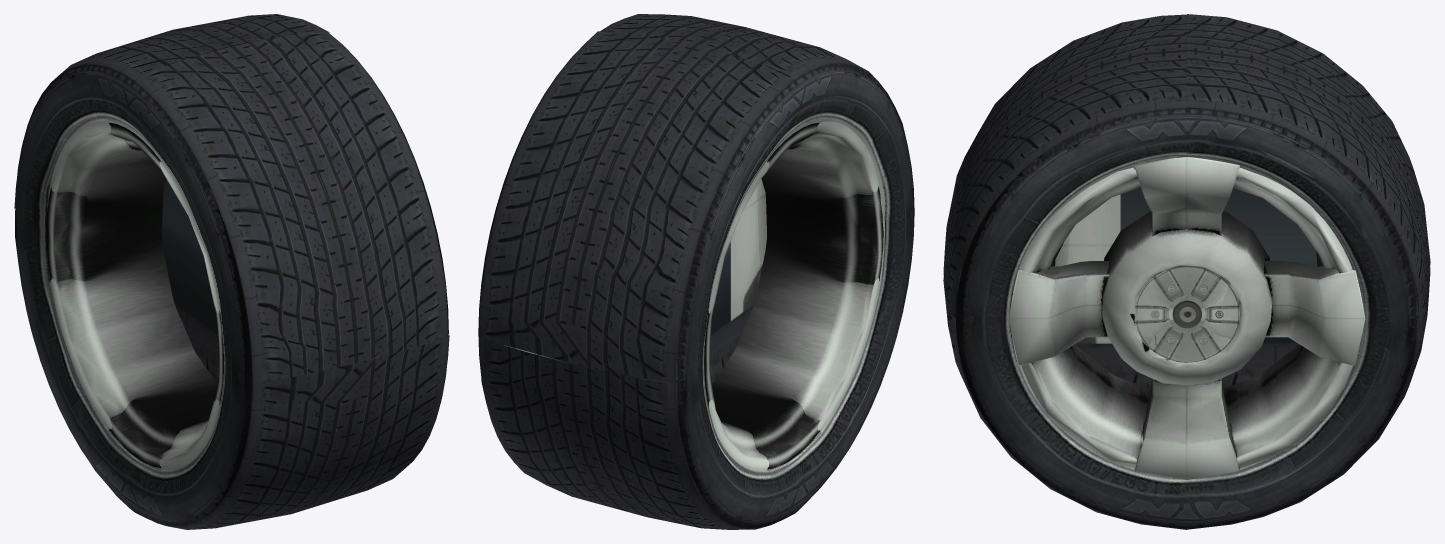
File: Stadium Car Wheel.fbx
3 views of the same model, side by side, from view 1: azimuth 30°, elevation 25°; view 2: azimuth 150°, elevation 25°; view 3: azimuth 270°, elevation 25° (orthographic). The views are drawn at different scales.
Parts seen in each view (by area): view 1: 1FLWheelMe; view 2: 1FLWheelMe; view 3: 1FLWheelMe.
Boxes of the visible parts, left/top/right/bottom form: 1FLWheelMe: left=14, top=14, right=449, bottom=529; 1FLWheelMe: left=478, top=14, right=914, bottom=529; 1FLWheelMe: left=943, top=14, right=1430, bottom=529.
Bounding box in the file's own units: 0.3647 × 0.7488 × 0.7529.
